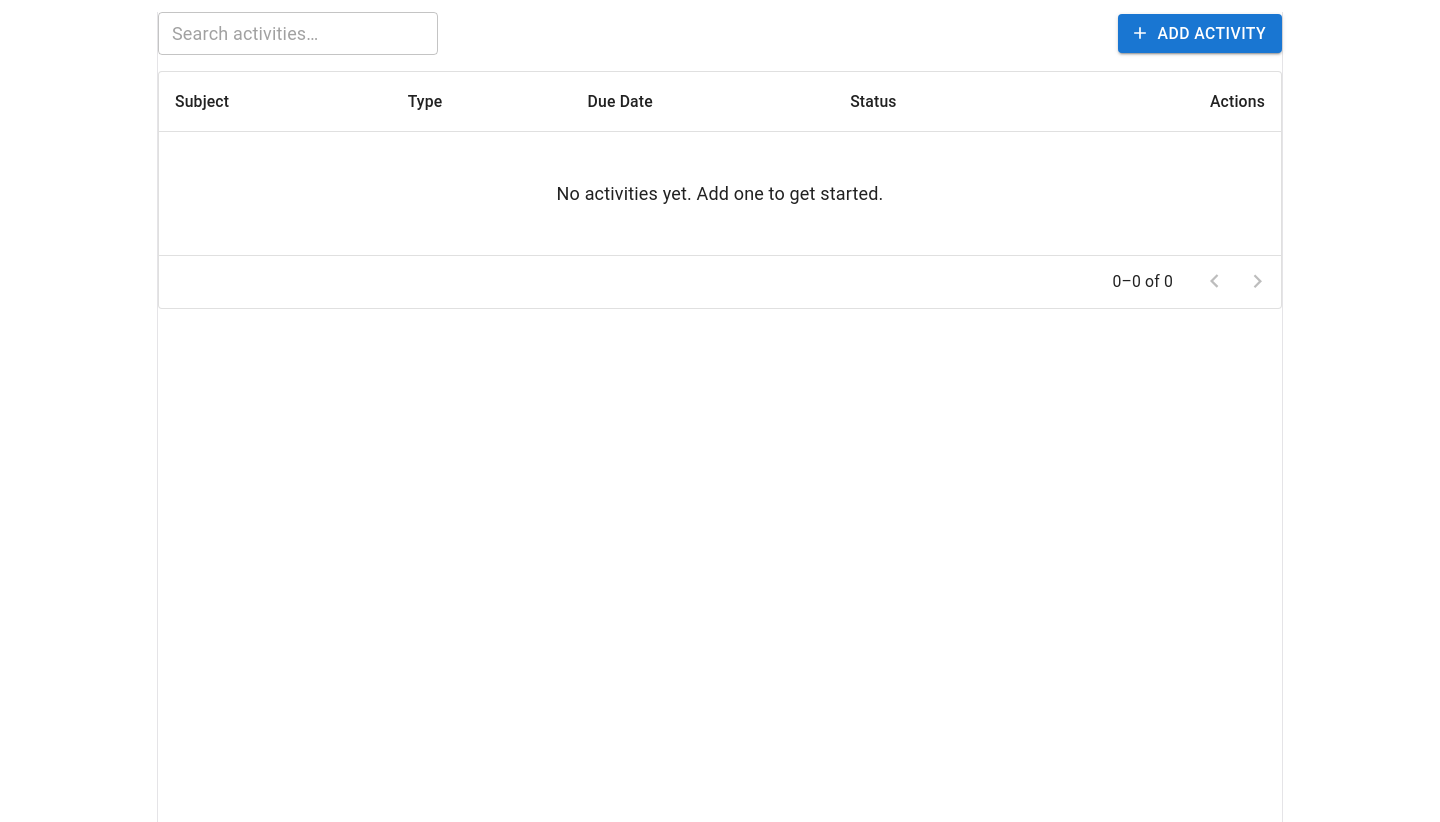
it: ActivityListPage › shows no-match message when search returns empty
Type "xyz" into the field with placeholder "Search activities…" at (298, 33), box [158,12,438,55]
Wait 300 ms
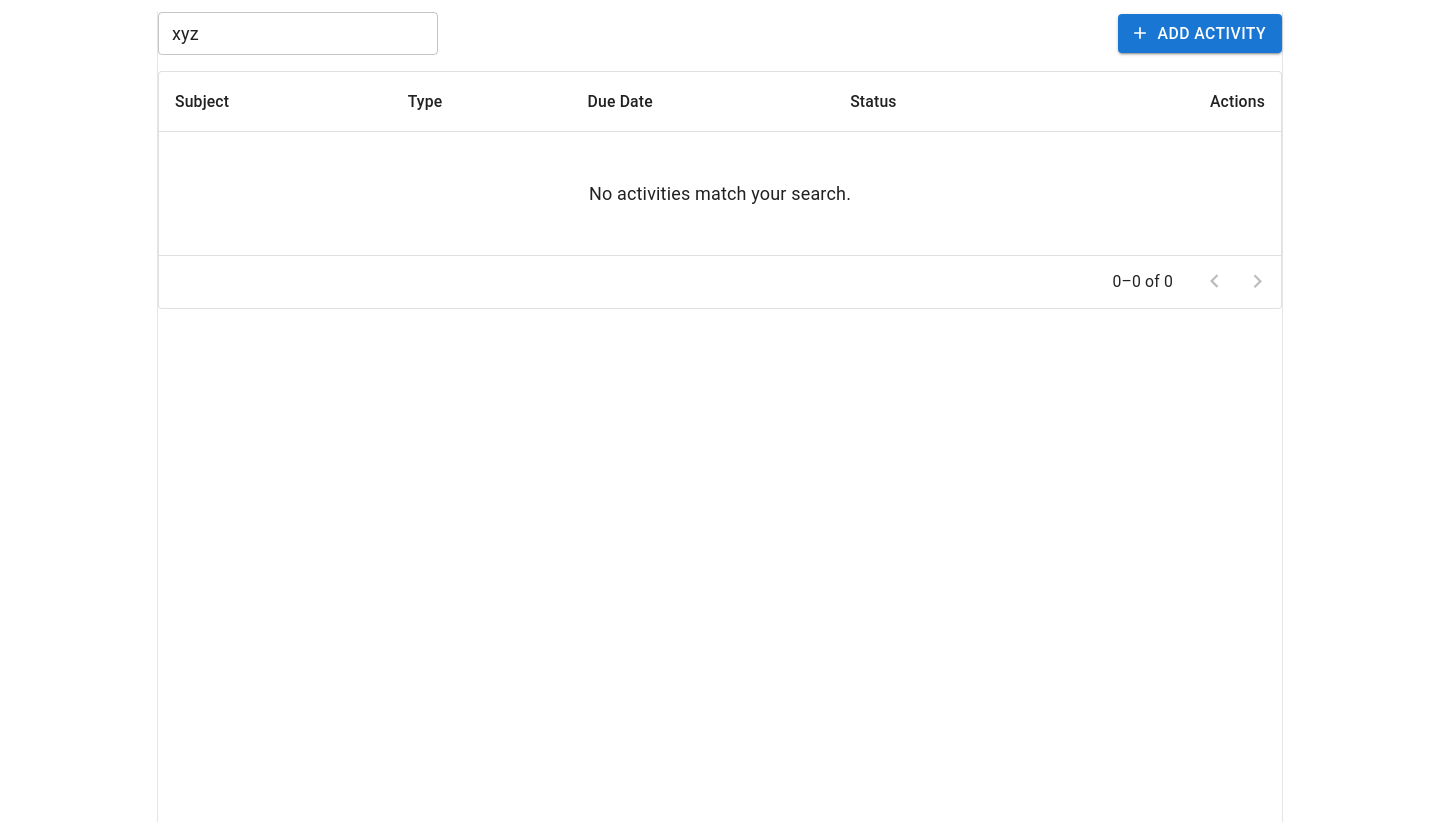
Result: the text "No activities match your search." is shown at [589,183,851,204]
